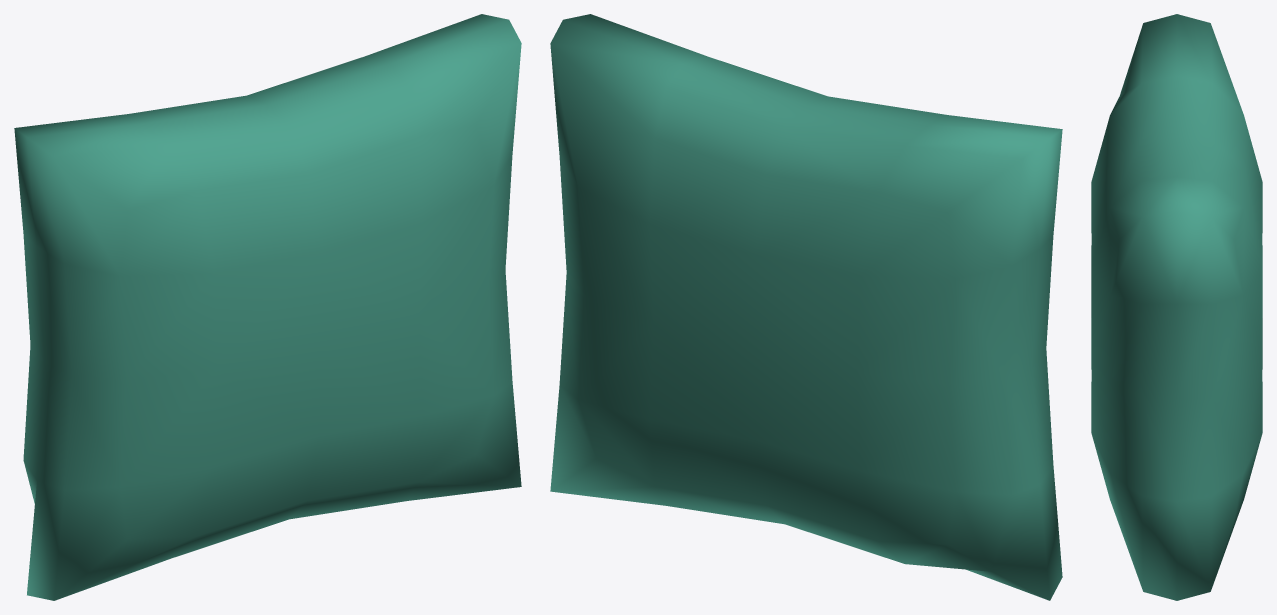
File: Pillow_2.glb
3 renders of one model, left to right at view 1: azimuth 30°, elevation 25°; view 2: azimuth 150°, elevation 25°; view 3: azimuth 270°, elevation 25°, orthographic. The views are drawn at different scales.
Visible parts, largest first — view 1: Pillow_2; view 2: Pillow_2; view 3: Pillow_2.
Boxes of the visible parts, x1,y1,x2,y2 form: Pillow_2: [14, 14, 521, 600]; Pillow_2: [550, 14, 1062, 600]; Pillow_2: [1091, 14, 1262, 600].
Size of the model in its own units: 0.5757 by 0.5221 by 0.2095.
1 material, 1 textured.
